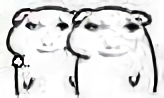dragon: (83, 21, 141, 57), (24, 18, 69, 55)
